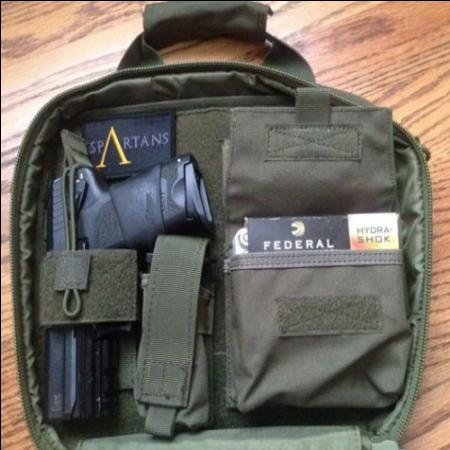Pistol: (38, 152, 210, 422)
